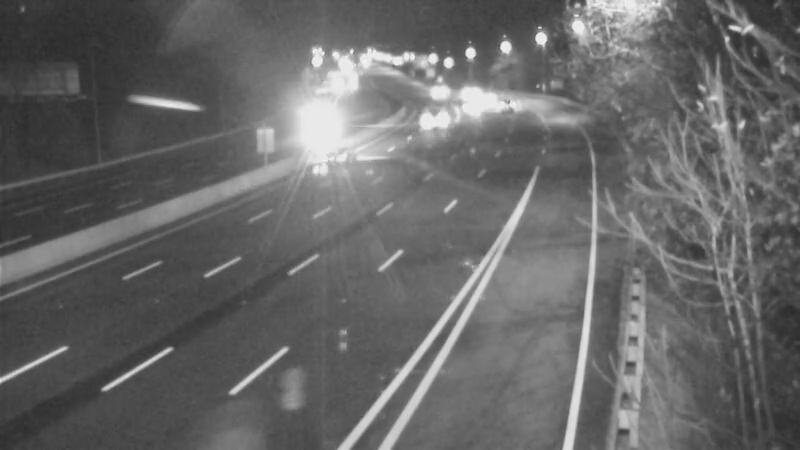vehicle: (298, 118, 378, 198), (409, 65, 459, 115), (433, 68, 483, 118), (462, 71, 512, 121), (438, 79, 488, 129), (477, 78, 527, 128), (406, 93, 456, 143), (296, 106, 346, 156)
